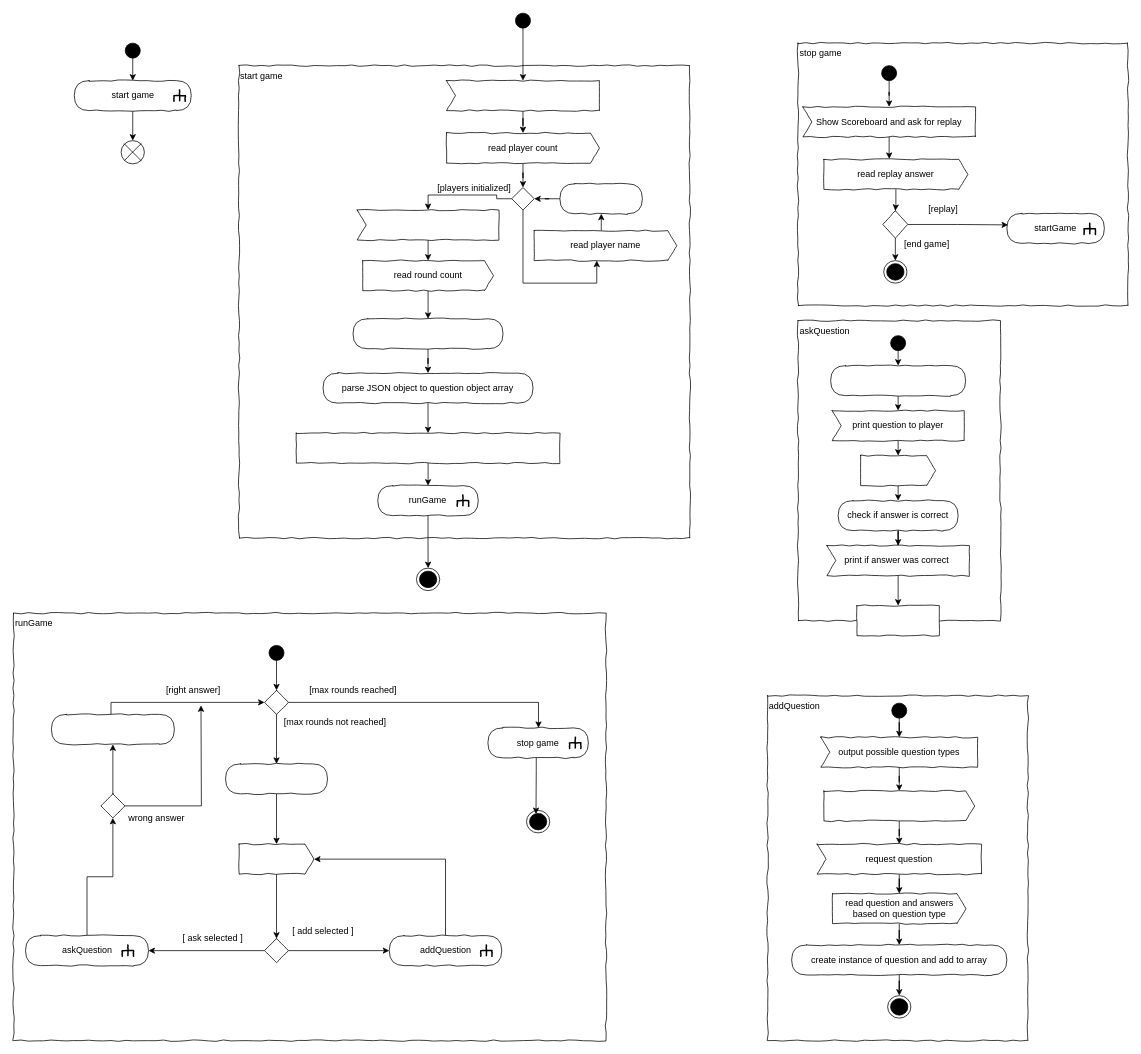
This 1141x1054 diagram has some shape labels left out. The centre of each missing label's shape, as x and y in pixels:
add player with name: point (600, 198)
addScore: point (112, 729)
ask how many rounds: point (427, 224)
ask how much players: point (522, 95)
create instance of Game with players, questions and rounds: point (428, 447)
read answer: point (898, 470)
read question type: point (899, 805)
read Questions JSON: point (427, 333)
result: point (897, 620)
select option: point (276, 858)
select player: point (276, 778)
select random question from array: point (898, 380)
